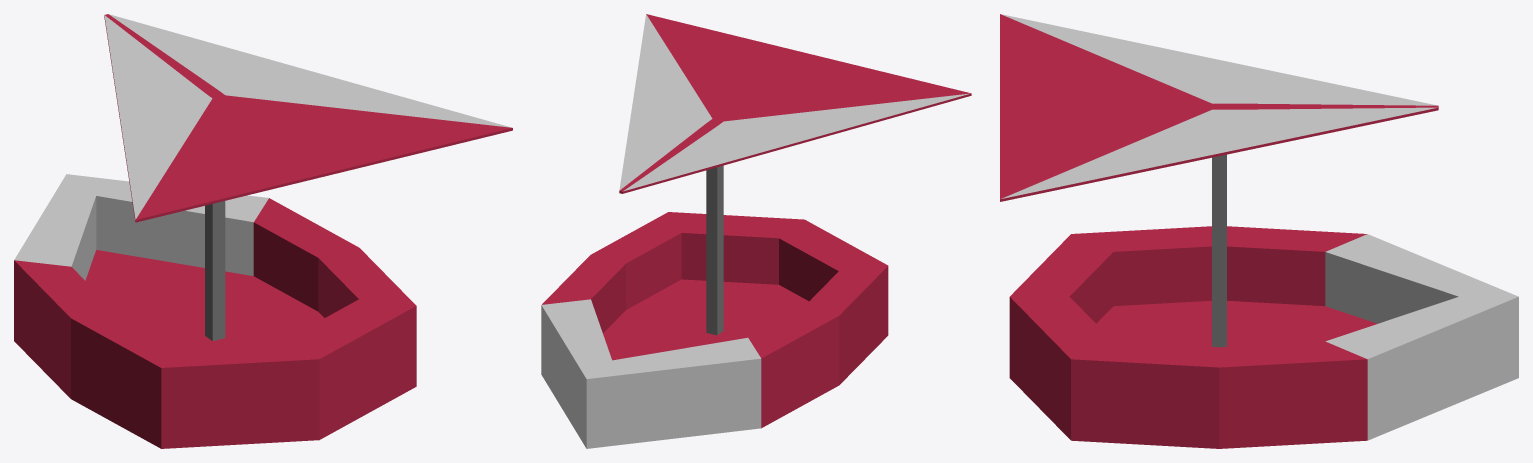
Rendered from Boat01.fbx.
The picture shows the model from 3 angles, left to right: view 1: azimuth 30°, elevation 25°; view 2: azimuth 150°, elevation 25°; view 3: azimuth 270°, elevation 25°; orthographic projection. The views are drawn at different scales.
Parts seen in each view (by area): view 1: Boat01; view 2: Boat01; view 3: Boat01.
Boxes of the visible parts, x1,y1,x2,y2 form: Boat01: [14, 14, 512, 448]; Boat01: [541, 14, 971, 448]; Boat01: [1000, 14, 1518, 448].
Bounding box in the file's own units: 293 × 200 × 346.
